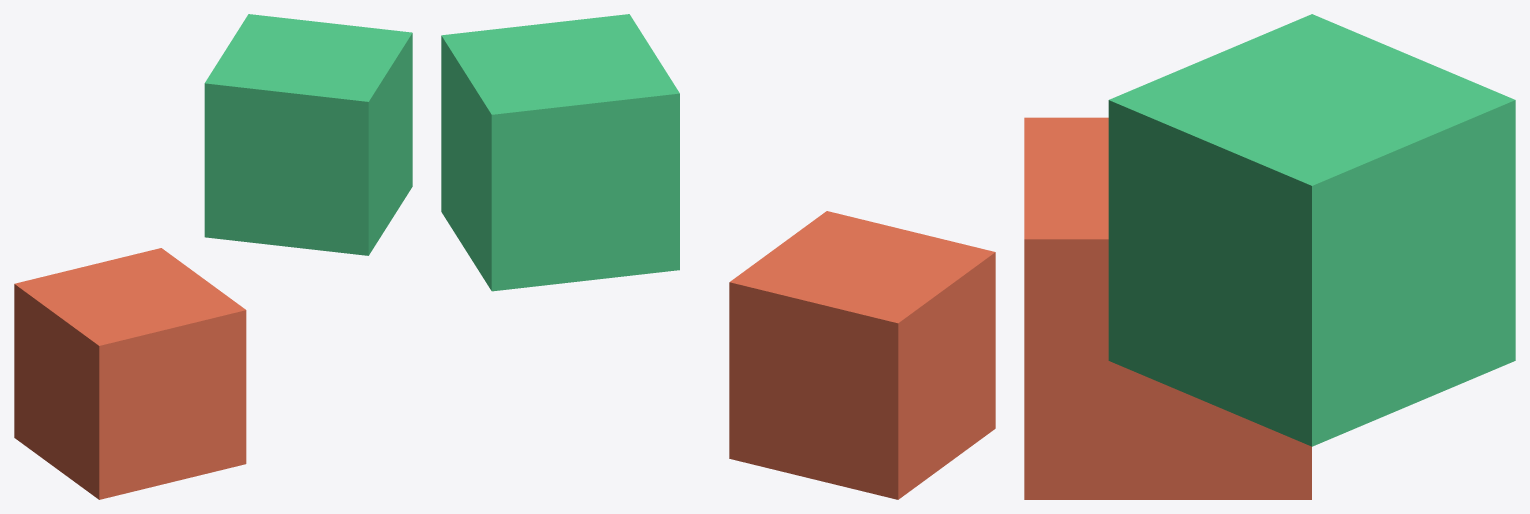
The model's file is blender.fbx.
The picture shows the model from 3 angles, left to right: view 1: azimuth 30°, elevation 25°; view 2: azimuth 150°, elevation 25°; view 3: azimuth 270°, elevation 25°; orthographic projection. The views are drawn at different scales.
Parts seen in each view (by area): view 1: Parent, Child; view 2: Parent, Child; view 3: Child, Parent.
Part boxes in pixels (bbox=[...]): Parent: bbox=[14, 248, 246, 499]; Child: bbox=[204, 14, 412, 255]; Parent: bbox=[729, 211, 995, 499]; Child: bbox=[441, 14, 679, 291]; Child: bbox=[1108, 14, 1515, 446]; Parent: bbox=[1024, 117, 1311, 499].
Size of the model in its own units: 541 by 400 by 341.
